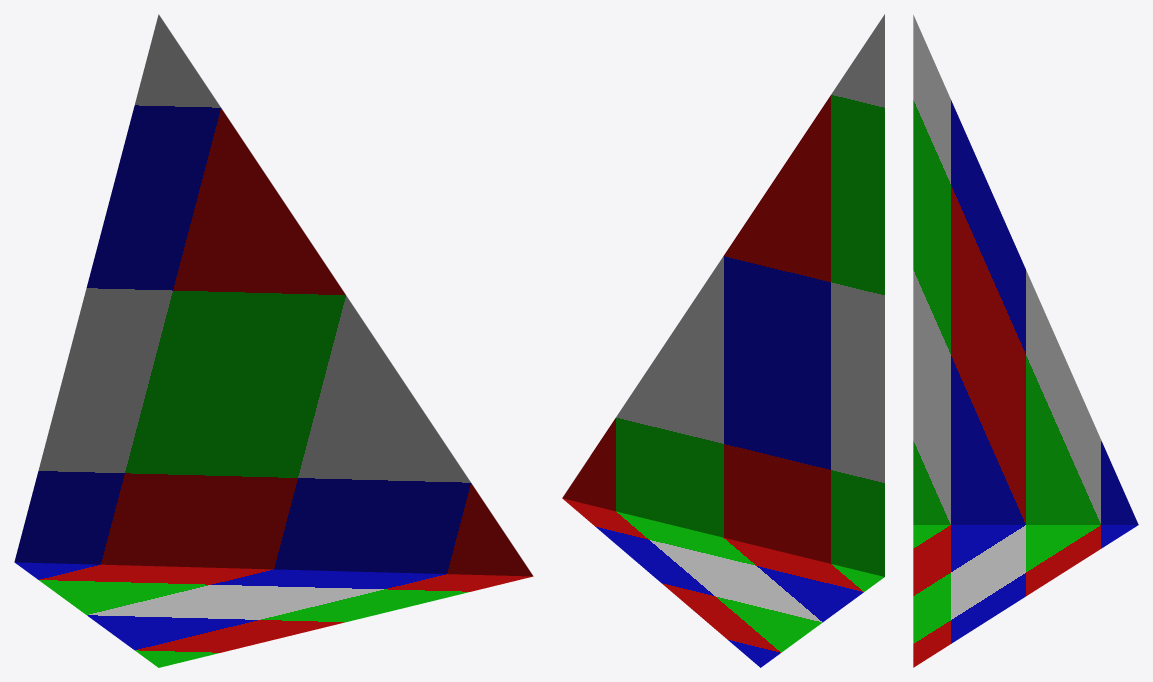
Rendered from uv-repeat.glb.
The picture shows the model from 3 angles, left to right: view 1: azimuth 30°, elevation 25°; view 2: azimuth 150°, elevation 25°; view 3: azimuth 270°, elevation 25°; orthographic projection. The views are drawn at different scales.
Size of the model in its own units: 0.06 by 0.1 by 0.04.
1 material, 1 textured.
